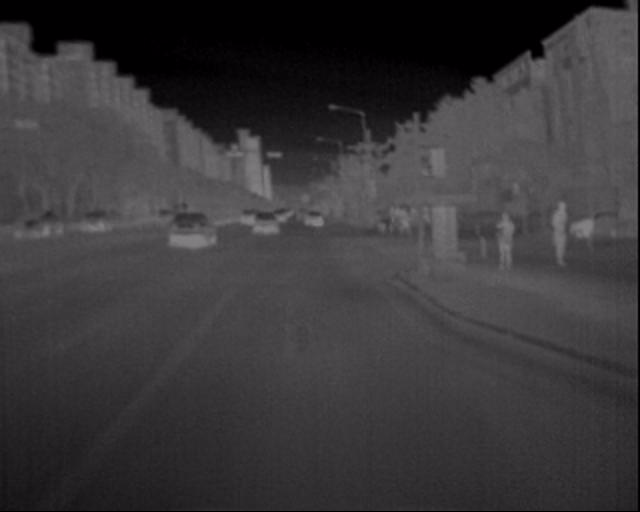person: (544, 193, 591, 276), (489, 204, 531, 275)
